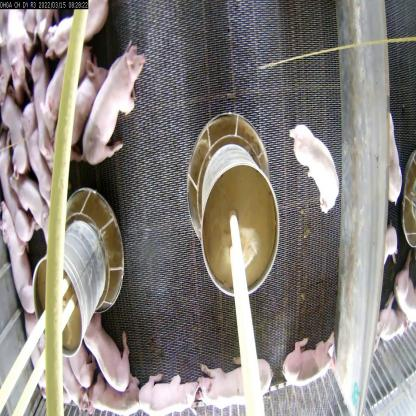Pig: (82, 37, 153, 169), (284, 112, 343, 218), (61, 55, 109, 167), (194, 345, 276, 402), (2, 201, 40, 315), (85, 318, 135, 392), (8, 168, 60, 238), (29, 52, 60, 169), (0, 88, 35, 182), (136, 372, 205, 416), (279, 340, 342, 388)
